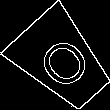O_SE: (28, 28, 96, 95)
